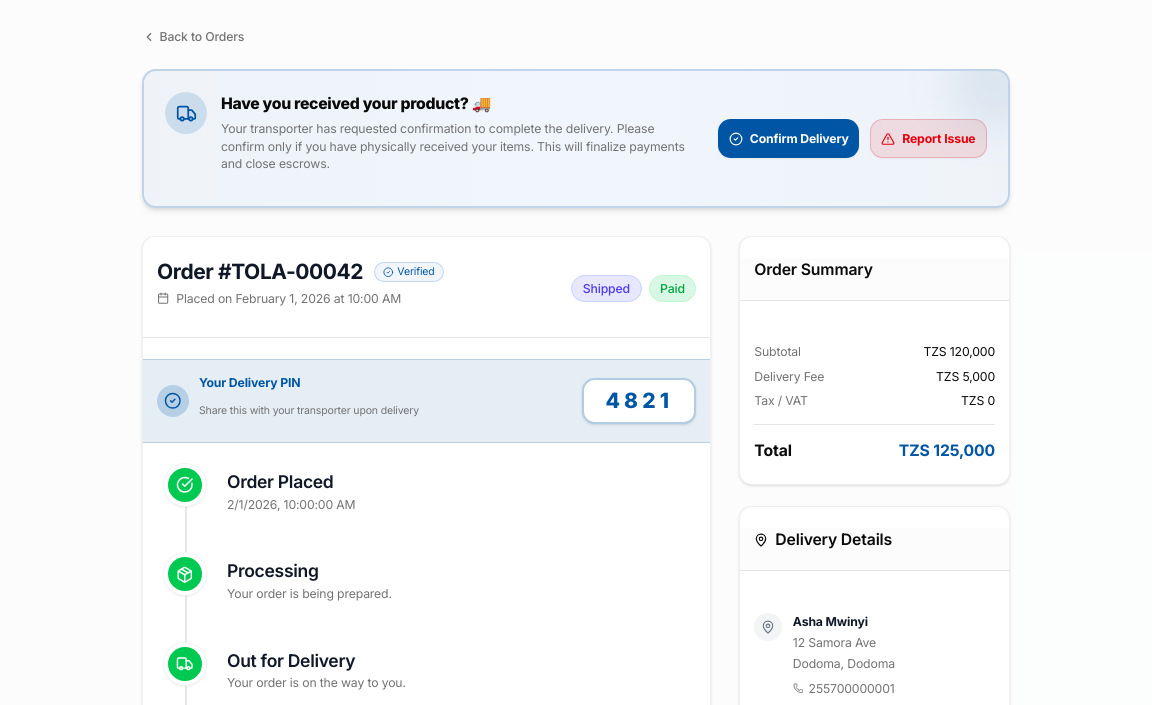
Test: OrderDetailContent › handleConfirmDelivery › clears a previous error once a retry succeeds
Click the button "Confirm Delivery".
click(789, 139)  # box [718,120,859,158]
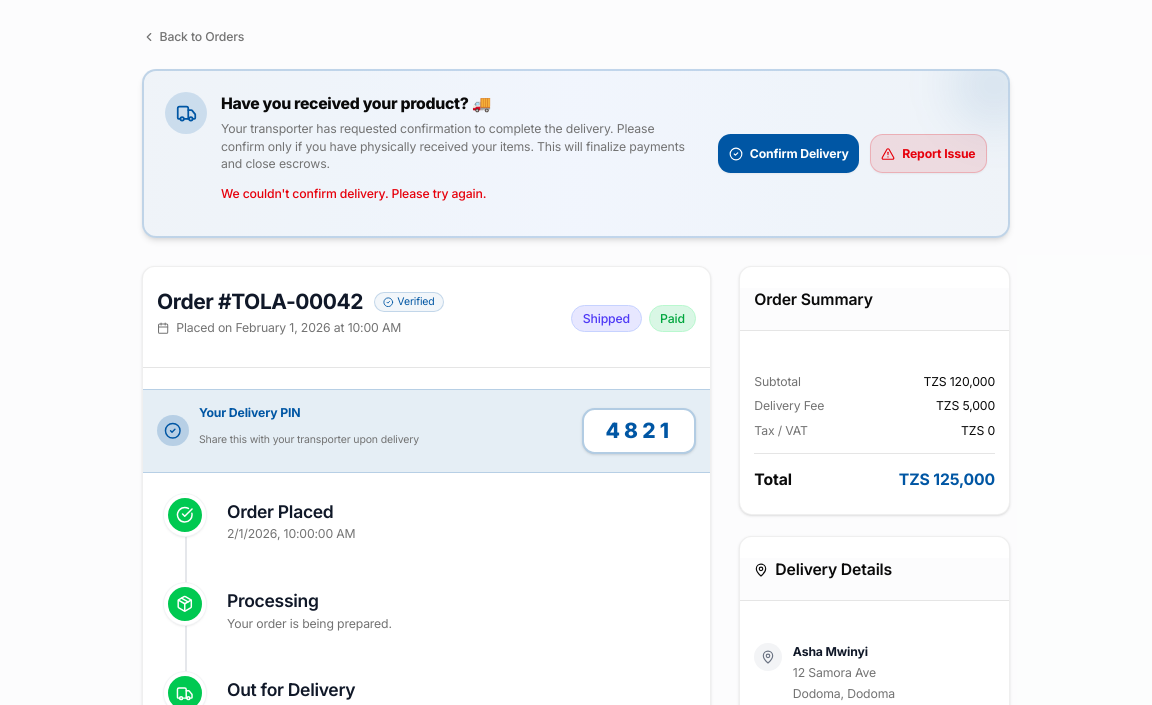
Result: the message "We couldn't confirm delivery. Please try again." is shown at [221,186,486,201]
Click the button "Confirm Delivery".
click(789, 154)  # box [718,134,859,173]
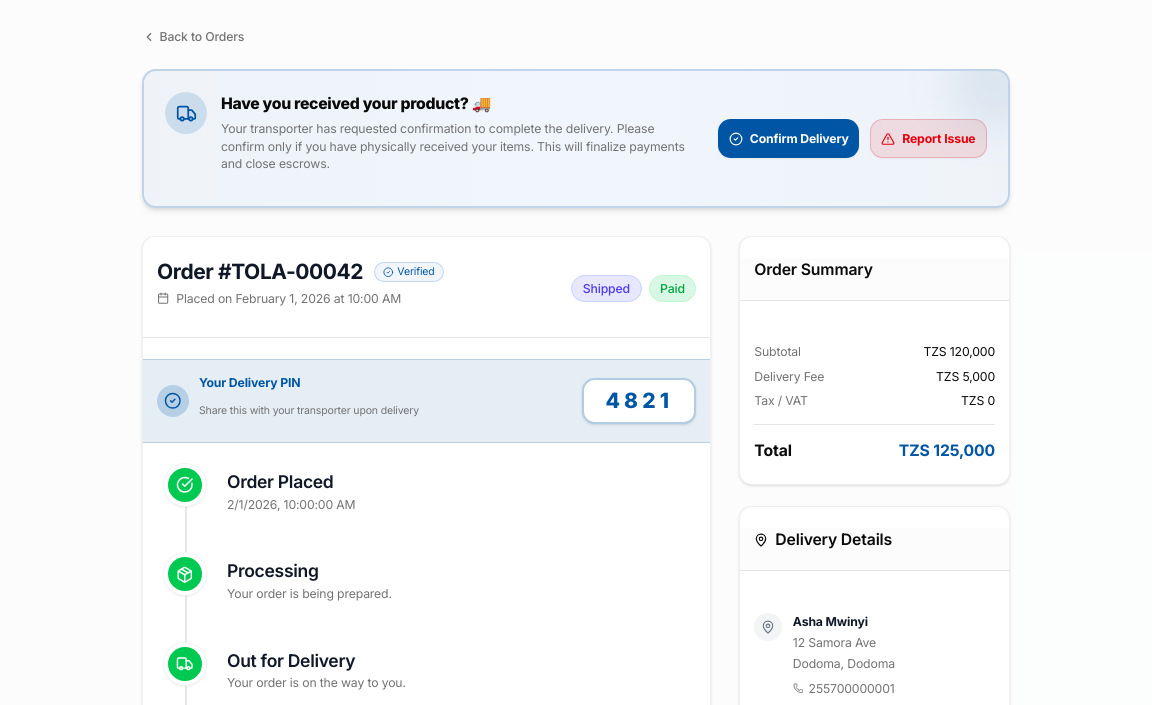
Result: the message "We couldn't confirm delivery. Please try again." is gone
